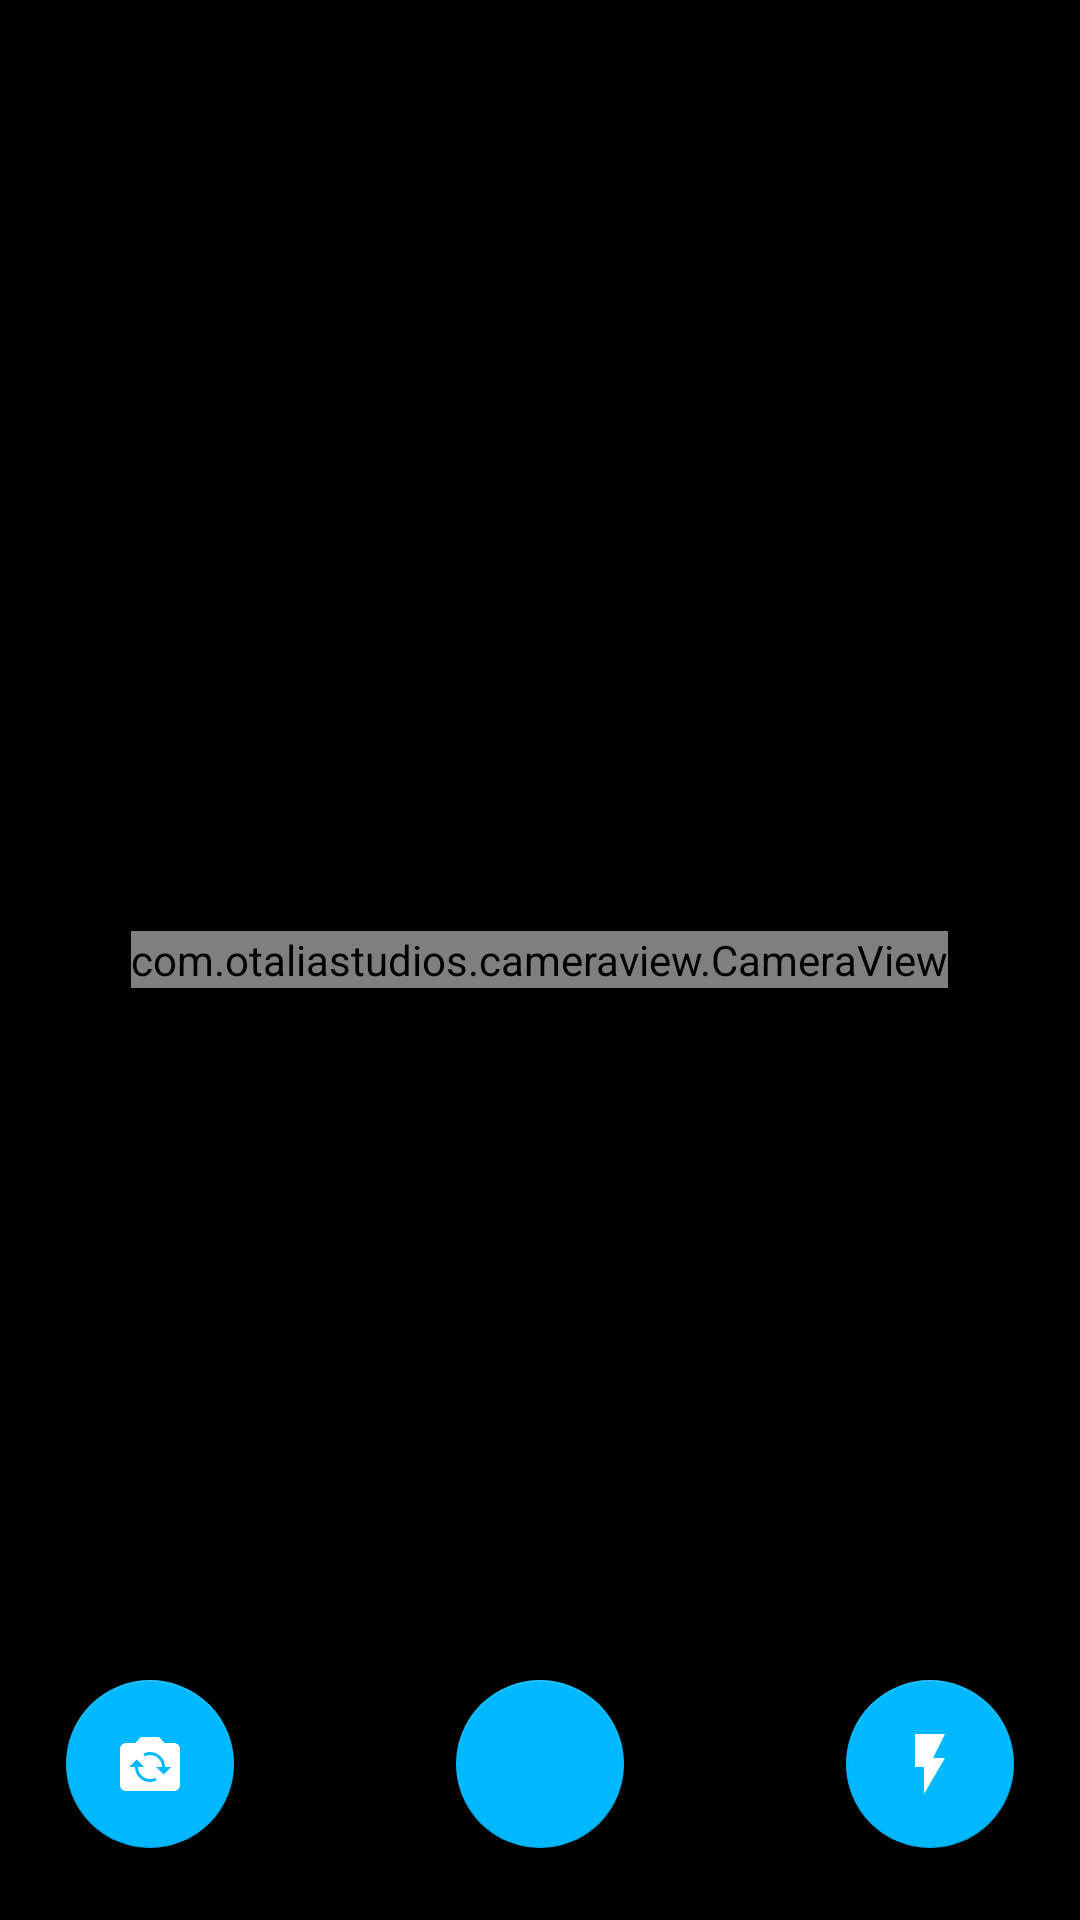

Icon click points for this 1080x1920 phone screenshot, format (x=x, y=y):
flash on: (x=930, y=1764)
switch camera: (x=150, y=1764)
